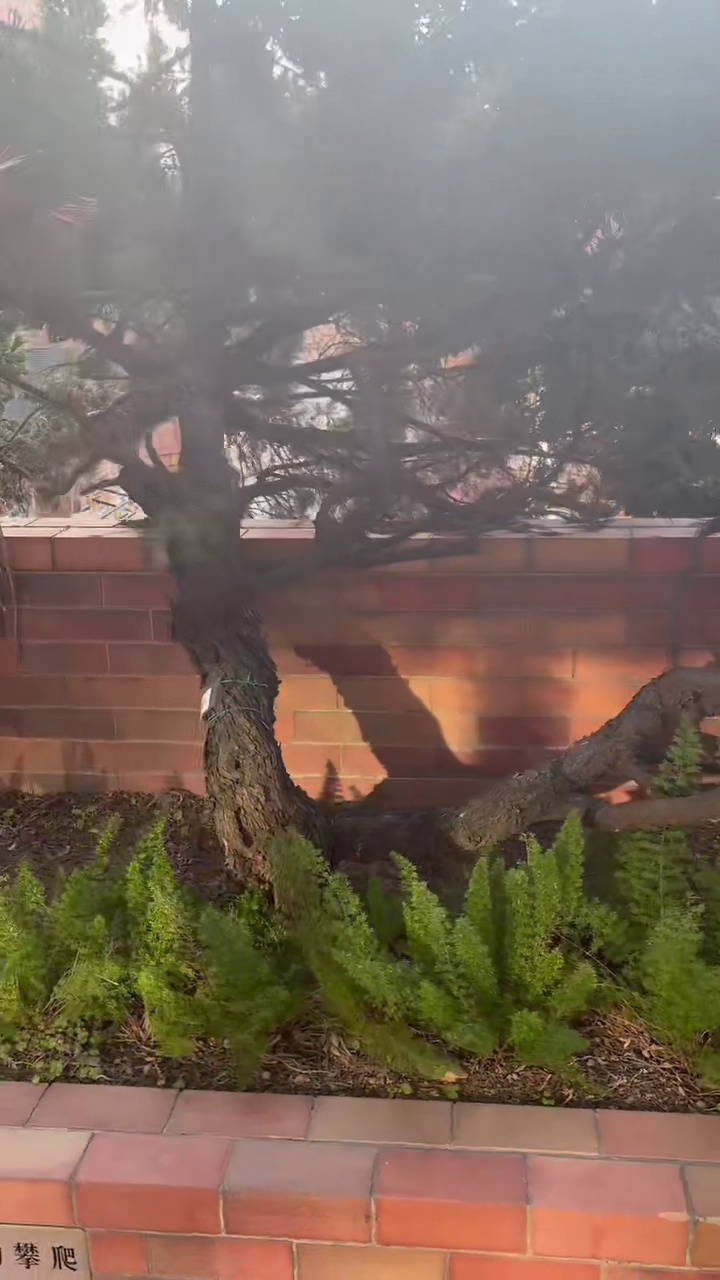Juniperus chinensis: (0, 0, 719, 872)
